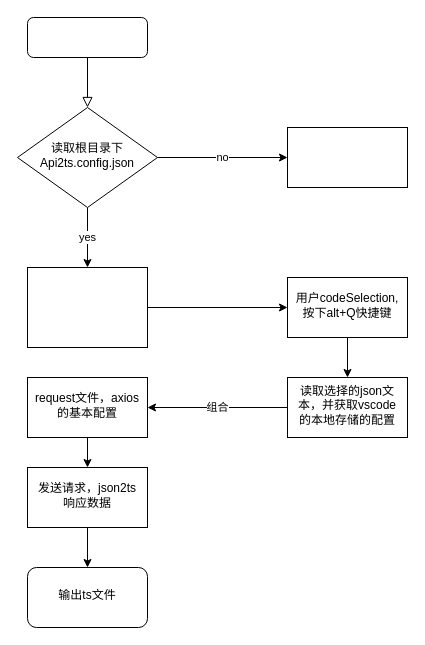
Image size: 425x645. Some labels were removed from this diagram. The centre of each missing label's shape, as x and y in pixels:
使用useConfig初始化配置，并使用vscode的本地存储存储起来: [87,307]
初始化: [87,37]
报错: [347,157]
